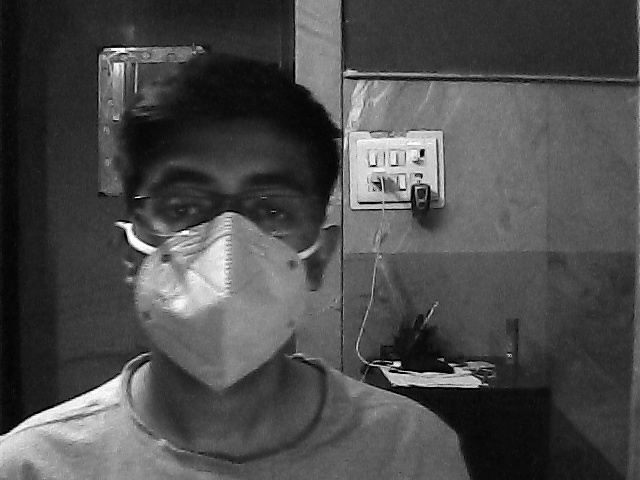mask: (131, 180, 320, 390)
